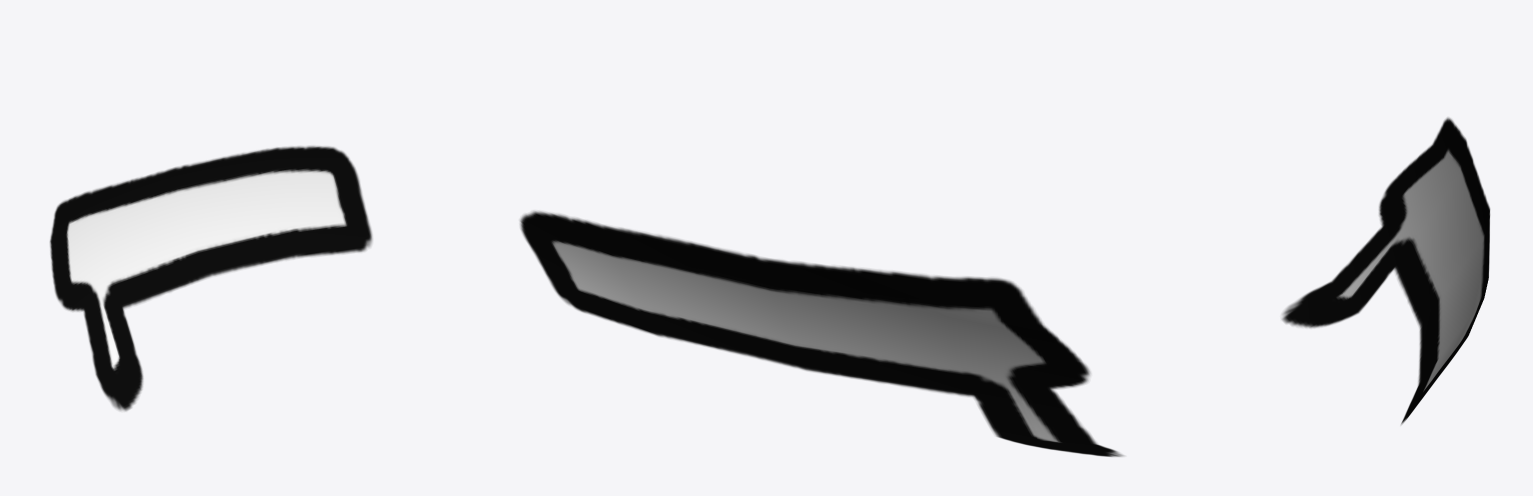
Rendered from 03-Drool-Face-mouth.glb.
The picture shows the model from 3 angles, left to right: view 1: azimuth 30°, elevation 25°; view 2: azimuth 150°, elevation 25°; view 3: azimuth 270°, elevation 25°; orthographic projection. The views are drawn at different scales.
Parts seen in each view (by area): view 1: 03-Drool-Face-mouth; view 2: 03-Drool-Face-mouth; view 3: 03-Drool-Face-mouth.
Boxes of the visible parts, left/top/right/bottom form: 03-Drool-Face-mouth: left=50, top=146, right=372, bottom=410; 03-Drool-Face-mouth: left=520, top=211, right=1123, bottom=456; 03-Drool-Face-mouth: left=1282, top=117, right=1489, bottom=424.
Bounding box in the file's own units: 0.3887 × 0.2786 × 0.2214.
1 material, 1 textured.
